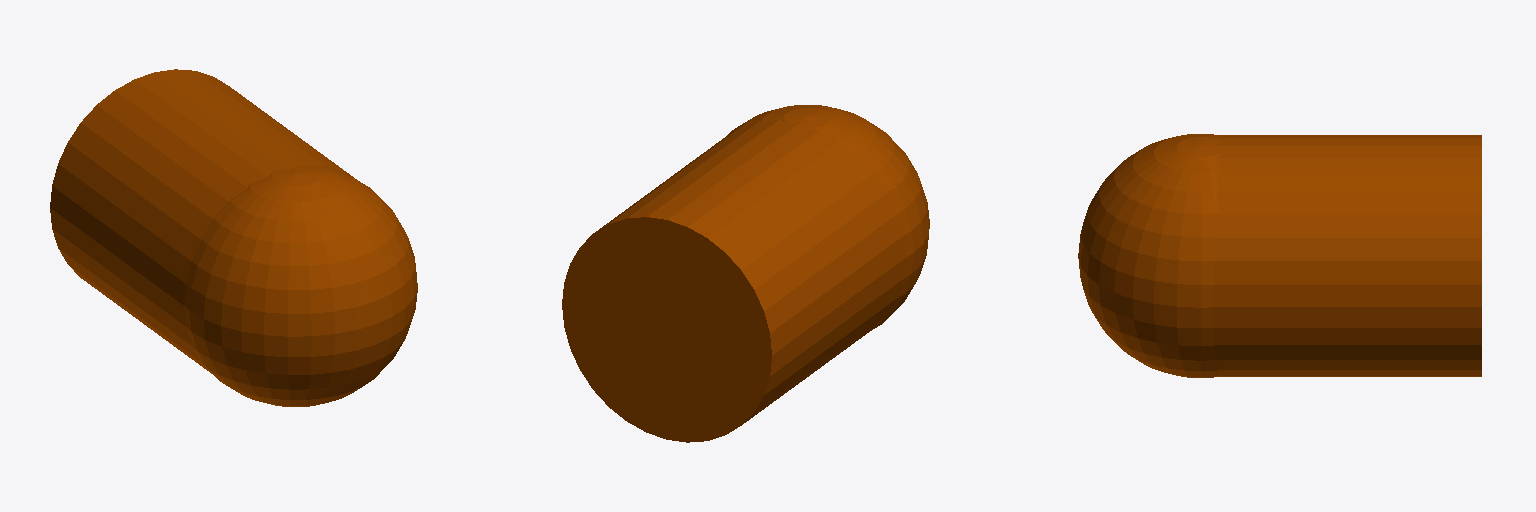
3 renders of one model, left to right at view 1: azimuth 30°, elevation 25°; view 2: azimuth 150°, elevation 25°; view 3: azimuth 270°, elevation 25°, orthographic.
Parts seen in each view (by area): view 1: 球体; view 2: 球体; view 3: 球体.
Part boxes in pixels (x1,y1,x2,y2): 球体: (50, 69, 417, 406); 球体: (562, 105, 929, 442); 球体: (1078, 134, 1481, 377).
Bounding box in the file's own units: 2 × 2 × 3.29.